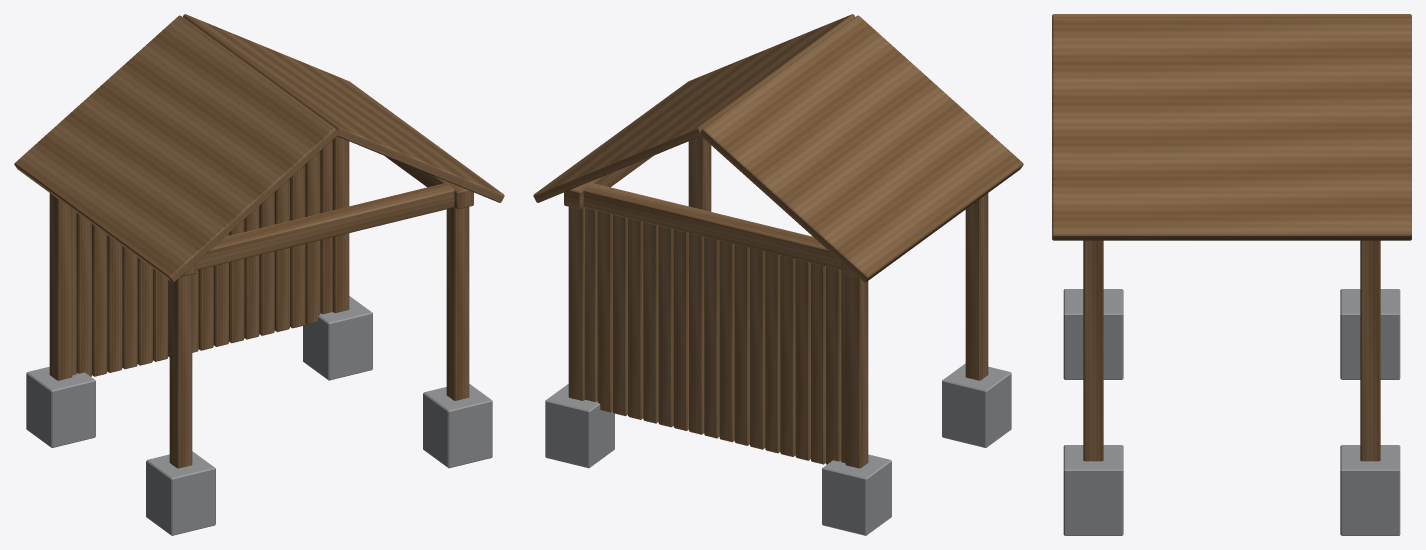
Rendered from ExampleHouse.glb.
3 views of the same model, side by side, from view 1: azimuth 30°, elevation 25°; view 2: azimuth 150°, elevation 25°; view 3: azimuth 270°, elevation 25° (orthographic). The views are drawn at different scales.
Visible parts, largest first — view 1: Roof panel, Roof panel.001, Front beam, Stone foot.002, Stone foot, Stone foot.001, Post.002, Post, Stone foot.003, Post.001, Post.003, Back plank.002 (+16 smaller); view 2: Roof panel, Roof panel.001, Front beam.001, Stone foot, Stone foot.001, Post.001, Stone foot.003, Post, Post.003, Back plank.005, Back plank.008, Back plank.007 (+17 smaller); view 3: Roof panel.001, Stone foot.002, Stone foot.003, Post.002, Post.003, Stone foot, Stone foot.001, Roof panel.
Boxes of the visible parts, <box> form: Roof panel: <box>14,15,337,282</box>; Roof panel.001: <box>183,14,504,202</box>; Front beam: <box>197,182,454,269</box>; Stone foot.002: <box>423,384,492,468</box>; Stone foot: <box>146,451,215,535</box>; Stone foot.001: <box>26,366,95,447</box>; Post.002: <box>446,207,469,400</box>; Post: <box>169,274,192,468</box>; Stone foot.003: <box>303,296,372,380</box>; Post.001: <box>49,193,72,380</box>; Post.003: <box>332,136,349,312</box>; Back plank.002: <box>76,213,91,376</box>; Roof panel: <box>700,15,1023,282</box>; Roof panel.001: <box>533,14,854,202</box>; Front beam.001: <box>583,182,840,269</box>; Stone foot: <box>942,363,1011,447</box>; Stone foot.001: <box>822,454,891,535</box>; Post.001: <box>845,274,868,468</box>; Stone foot.003: <box>545,384,614,468</box>; Post: <box>965,193,988,380</box>; Post.003: <box>568,207,585,400</box>; Back plank.005: <box>780,255,795,456</box>; Back plank.008: <box>734,244,749,445</box>; Back plank.007: <box>750,248,765,449</box>; Roof panel.001: <box>1052,17,1411,240</box>; Stone foot.002: <box>1063,445,1123,535</box>; Stone foot.003: <box>1340,445,1400,535</box>; Post.002: <box>1083,240,1103,461</box>; Post.003: <box>1360,240,1380,461</box>; Stone foot: <box>1063,289,1123,379</box>; Stone foot.001: <box>1340,289,1400,379</box>; Roof panel: <box>1052,14,1411,17</box>.
Bounding box in the file's own units: 4.85 × 5.14 × 3.9.
Materials: 2 (1 with a texture image).
